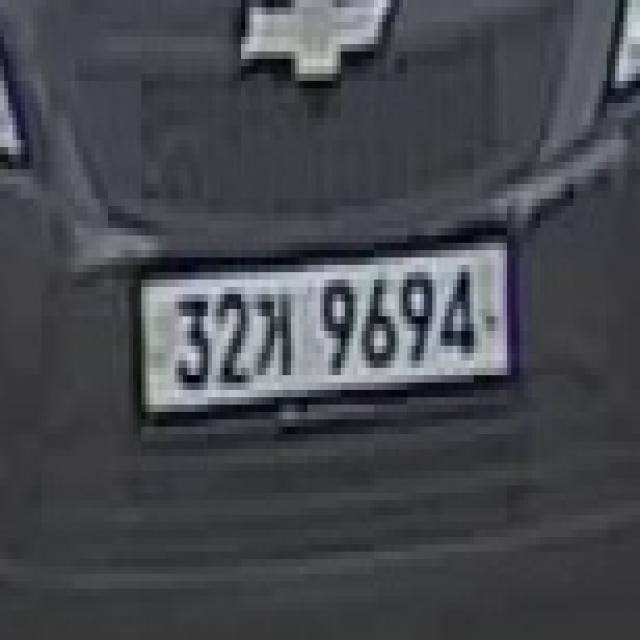2: (216, 287, 249, 390)
3: (170, 294, 212, 397)
4: (440, 265, 478, 368)
6: (362, 280, 394, 375)
9: (320, 272, 357, 383), (399, 265, 436, 360)
geo: (249, 287, 295, 375)
license_plate: (133, 236, 511, 420)
